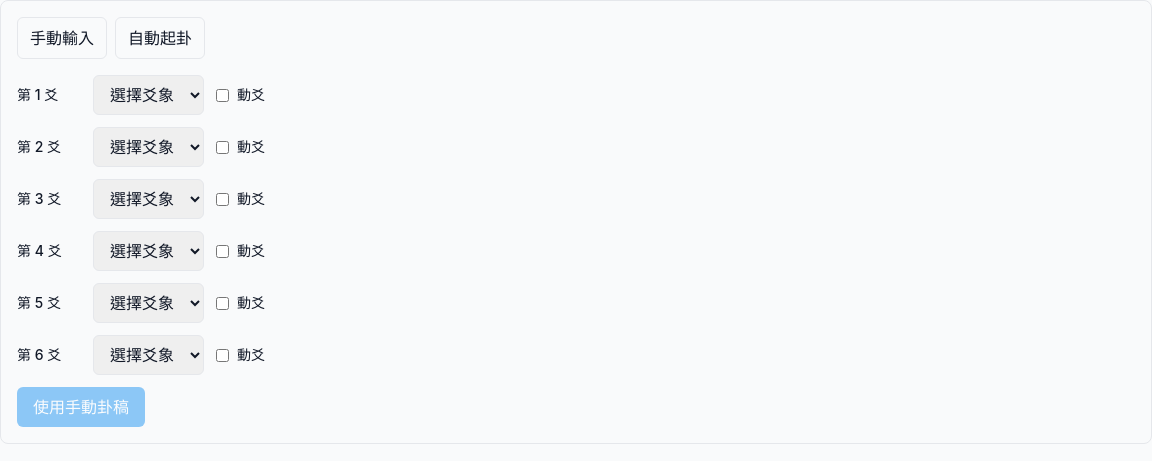
Test: LiuyaoInput › switches between manual and auto modes
This screenshot has width=1152, height=461.
Expected: the button "使用手動卦稿" is shown, [17, 387, 145, 427]
Click the button "自動起卦" at (160, 38), box [115, 17, 205, 59]
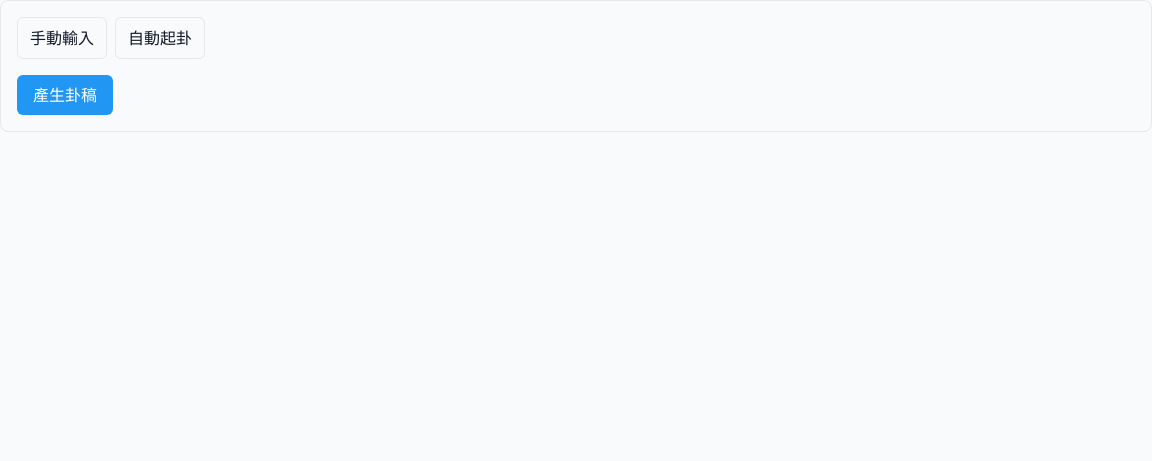
Result: the button "產生卦稿" is shown at [17, 75, 113, 115]
